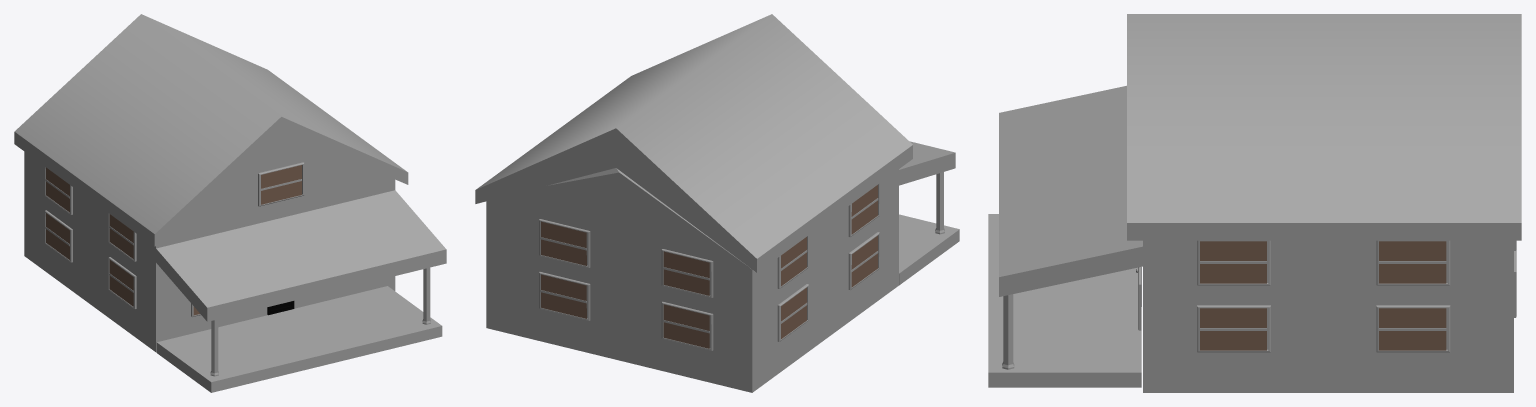
The model's file is Farmhouse1.fbx.
3 renders of one model, left to right at view 1: azimuth 30°, elevation 25°; view 2: azimuth 150°, elevation 25°; view 3: azimuth 270°, elevation 25°, orthographic. The views are drawn at different scales.
Visible parts, largest first — view 1: pSphere36, polySurface660, polySurface663, polySurface664, polySurface665, polySurface666; view 2: pSphere36, polySurface671, polySurface664, polySurface663, polySurface666, polySurface665; view 3: pSphere36, polySurface673, polySurface674, polySurface672, polySurface675.
Part boxes in pixels (left/top/right/bottom): pSphere36: left=14, top=14, right=446, bottom=392; polySurface660: left=258, top=162, right=304, bottom=206; polySurface663: left=108, top=257, right=136, bottom=308; polySurface664: left=45, top=210, right=72, bottom=262; polySurface665: left=108, top=213, right=136, bottom=261; polySurface666: left=45, top=167, right=72, bottom=214; pSphere36: left=475, top=14, right=959, bottom=392; polySurface671: left=539, top=219, right=713, bottom=350; polySurface664: left=777, top=284, right=808, bottom=341; polySurface663: left=848, top=232, right=879, bottom=289; polySurface666: left=777, top=235, right=808, bottom=288; polySurface665: left=848, top=183, right=879, bottom=236; pSphere36: left=988, top=14, right=1521, bottom=392; polySurface673: left=1376, top=305, right=1450, bottom=352; polySurface674: left=1197, top=305, right=1270, bottom=352; polySurface672: left=1376, top=240, right=1450, bottom=285; polySurface675: left=1197, top=240, right=1270, bottom=285.
Bounding box in the file's own units: 220 × 175 × 285.
